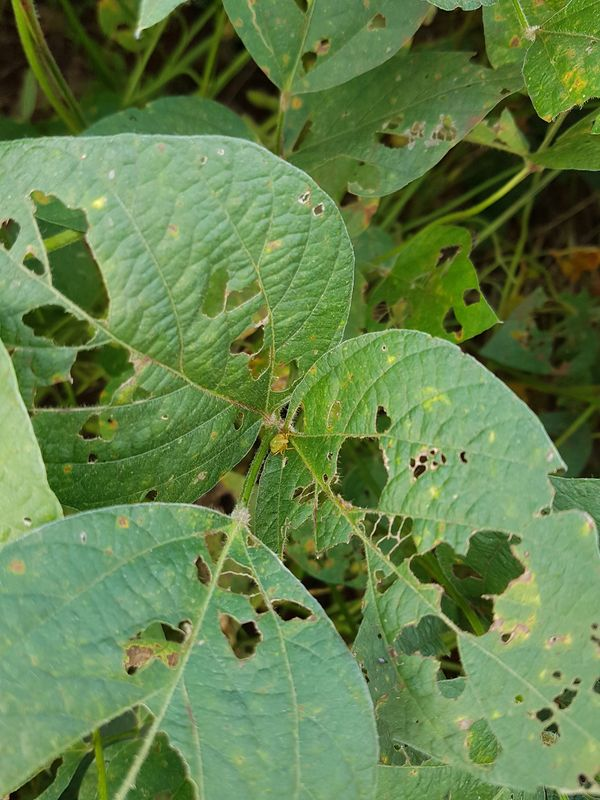Euschistus_heros_ninfa: (263, 426, 300, 461)
